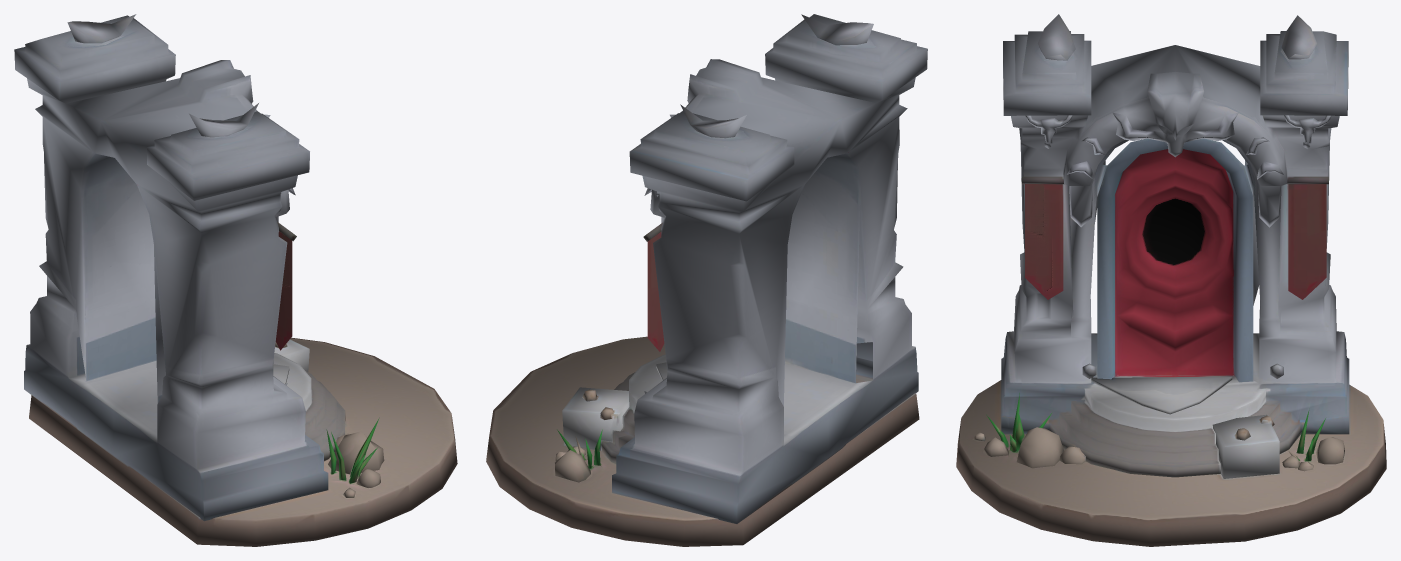
File: portal.fbx
The picture shows the model from 3 angles, left to right: view 1: azimuth 30°, elevation 25°; view 2: azimuth 150°, elevation 25°; view 3: azimuth 270°, elevation 25°; orthographic projection. The views are drawn at different scales.
Parts seen in each view (by area): view 1: Object_01; view 2: Object_01; view 3: Object_01.
Boxes of the visible parts, x1=… form: Object_01: x1=14, y1=14, x2=457, y2=546; Object_01: x1=486, y1=14, x2=927, y2=546; Object_01: x1=956, y1=14, x2=1386, y2=546.
Size of the model in its own units: 83.01 by 99.8 by 99.02.
